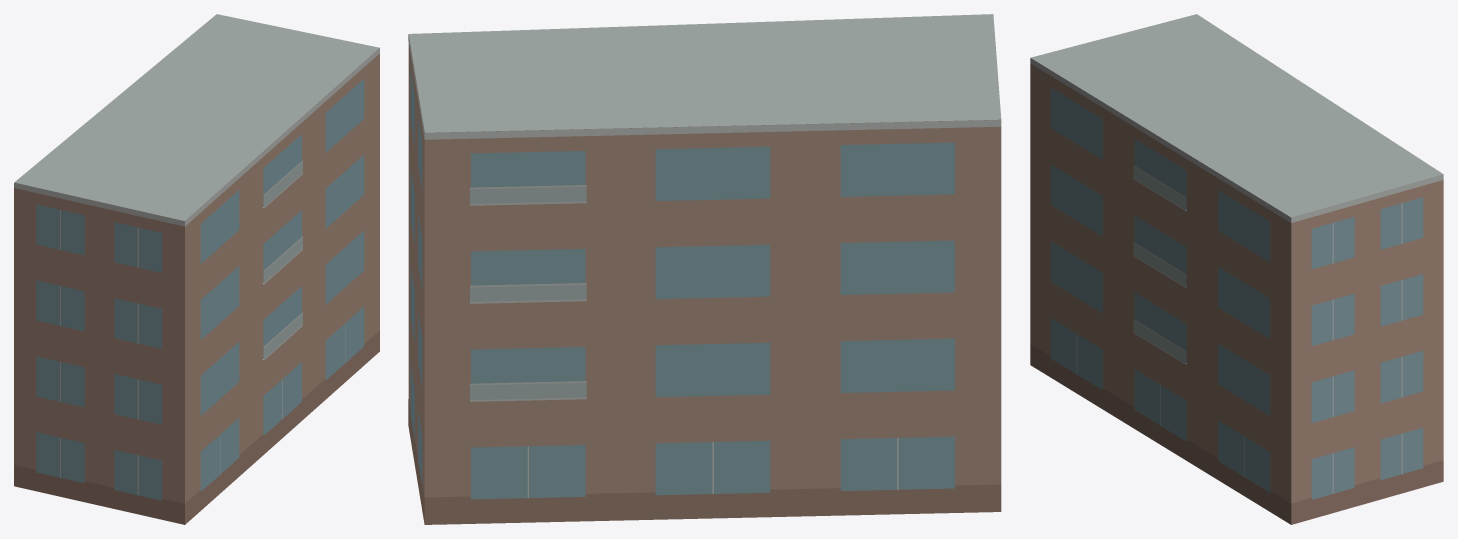
File: survey-upis-32988411.glb
3 views of the same model, side by side, from view 1: azimuth 30°, elevation 25°; view 2: azimuth 150°, elevation 25°; view 3: azimuth 270°, elevation 25° (orthographic). The views are drawn at different scales.
Visible parts, largest first — view 1: survey-upis-32988411.tmp; view 2: survey-upis-32988411.tmp; view 3: survey-upis-32988411.tmp.
Boxes of the visible parts, x1=… form: survey-upis-32988411.tmp: x1=14, y1=14, x2=379, y2=524; survey-upis-32988411.tmp: x1=408, y1=14, x2=1001, y2=524; survey-upis-32988411.tmp: x1=1030, y1=14, x2=1443, y2=524.
Size of the model in its own units: 19.26 by 13.55 by 16.53.
